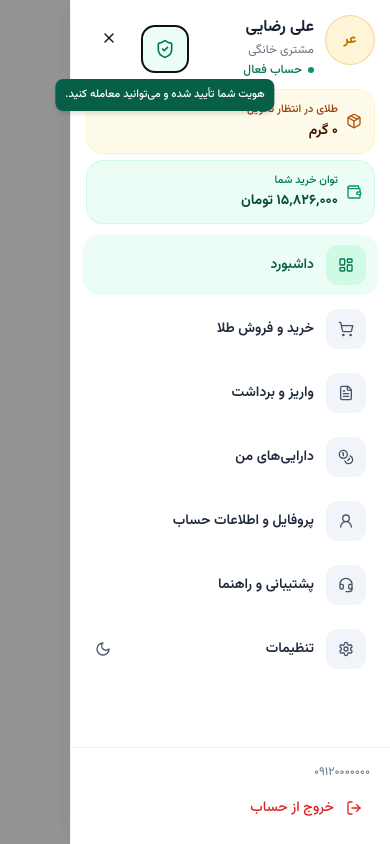
Test: DashboardSidebar mobile drawer › opens support from the drawer without inventing a support route
Click the button "پشتیبانی و راهنما". click: coordinates (230, 585)
box: [83,555,378,615]
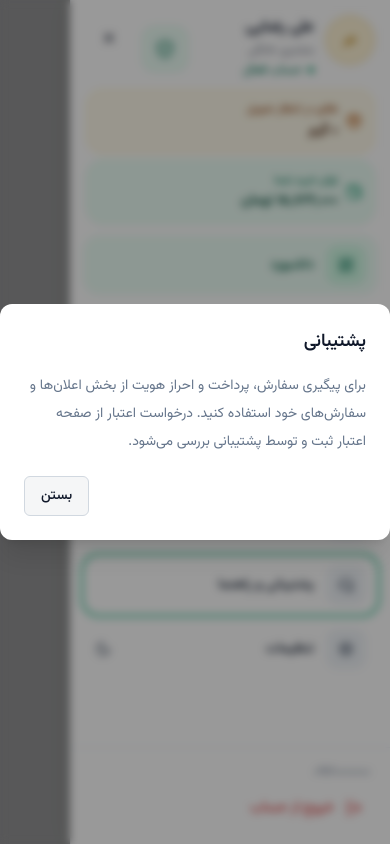
Now the dialog "پشتیبانی" is shown
